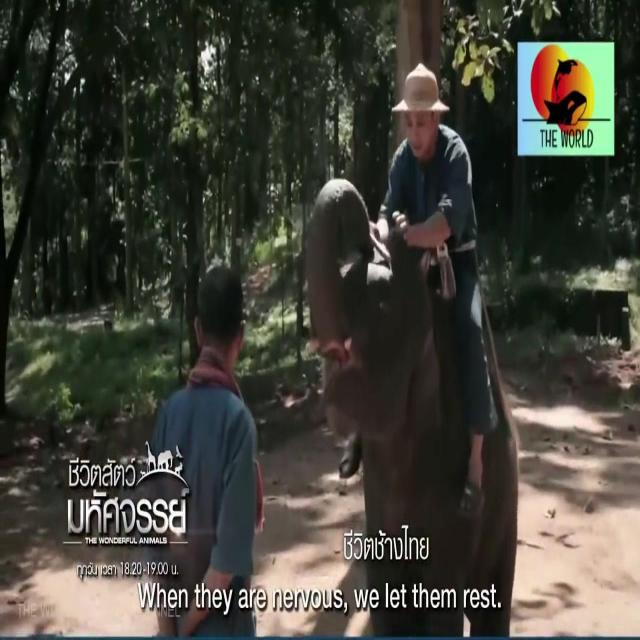Elephant: (304, 174, 506, 561)
